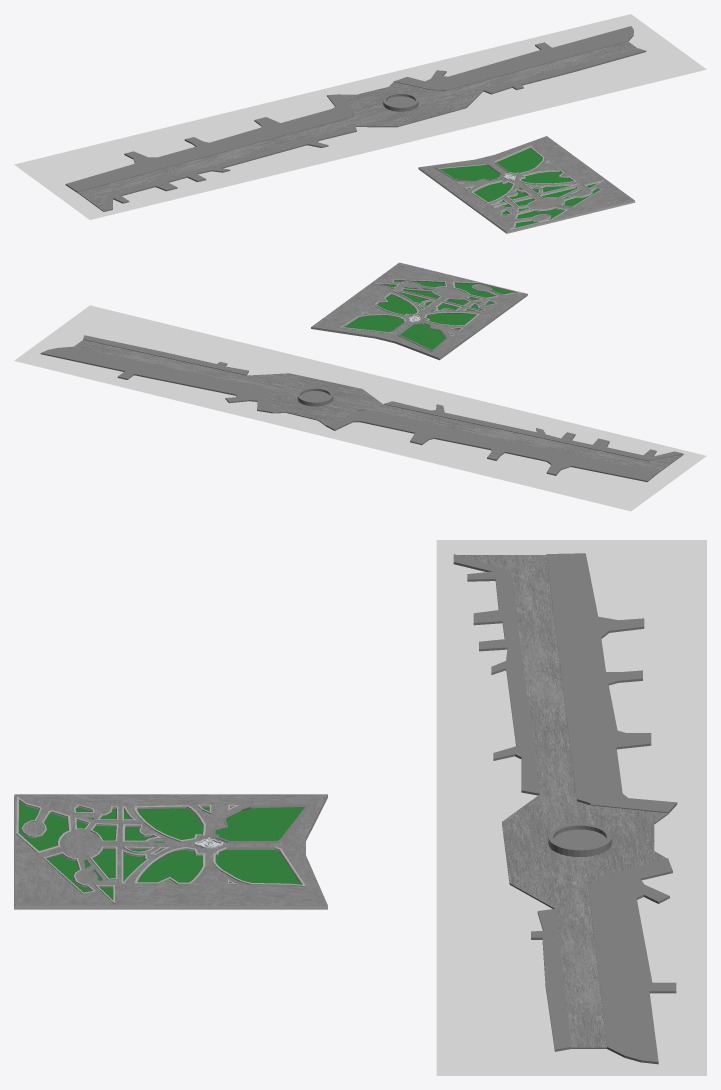
Rendered from redondelv2YpRQ.fbx.
The picture shows the model from 3 angles, top to bottom: view 1: azimuth 30°, elevation 25°; view 2: azimuth 150°, elevation 25°; view 3: azimuth 270°, elevation 25°; orthographic projection. The views are drawn at different scales.
Visible parts, largest first — view 1: Plano.002, Plano.004, Plano.003, Plano; view 2: Plano.002, Plano.004, Plano.003, Plano; view 3: Plano.002, Plano.004, Plano.003, Plano.
Boxes of the visible parts, x1,y1,x2,y2 form: Plano.002: [14, 14, 706, 219]; Plano.004: [65, 26, 646, 211]; Plano.003: [418, 136, 635, 233]; Plano: [440, 147, 599, 227]; Plano.002: [14, 305, 706, 511]; Plano.004: [40, 335, 683, 482]; Plano.003: [311, 262, 527, 360]; Plano: [343, 280, 515, 349]; Plano.002: [436, 540, 706, 1075]; Plano.004: [453, 553, 677, 1064]; Plano.003: [14, 794, 327, 909]; Plano: [18, 801, 304, 899].
Size of the model in its own units: 4000 by 45.64 by 2187.
Materials: 6 (2 with a texture image).
